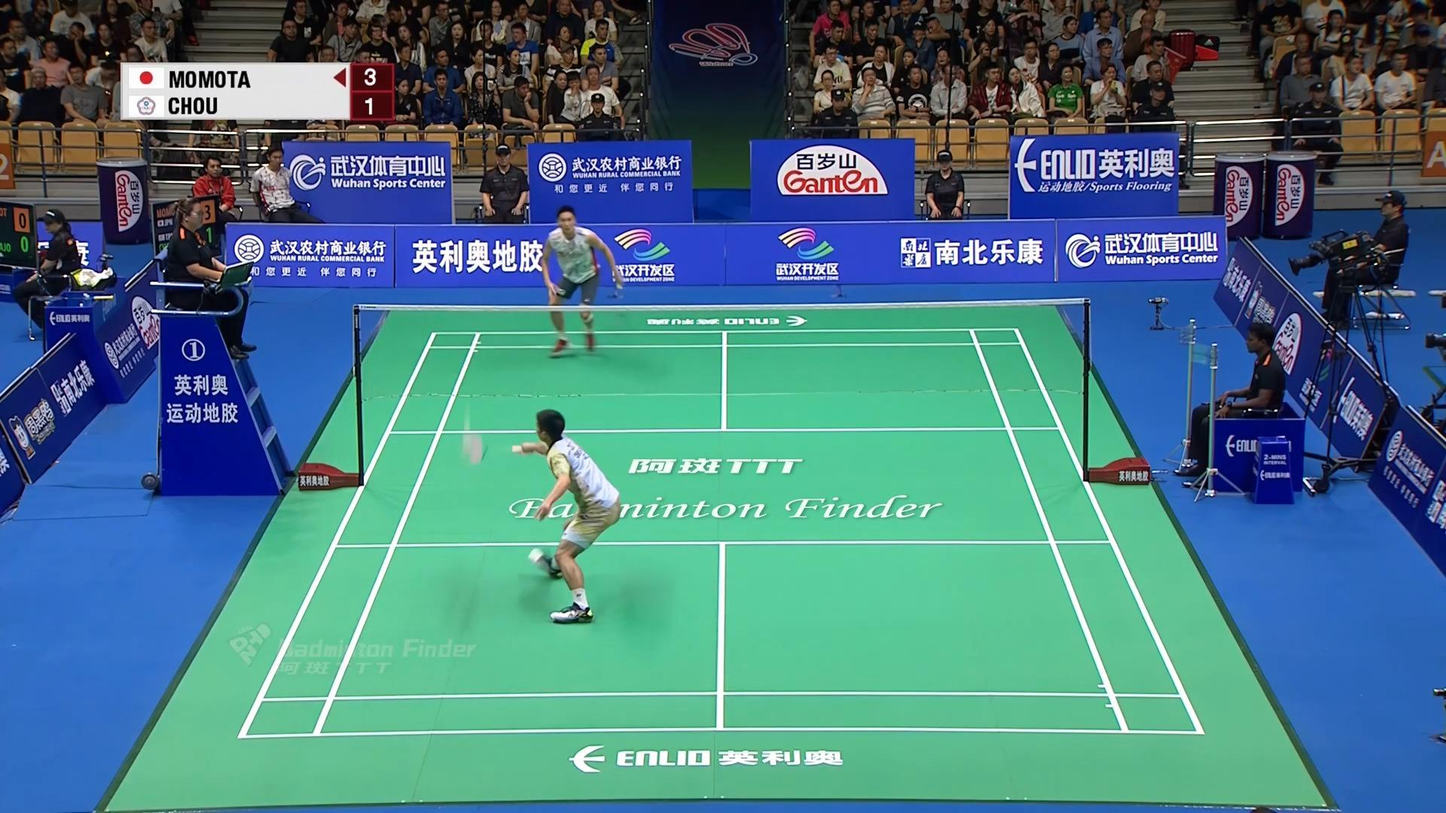player: (518, 409, 620, 623), (540, 205, 622, 358)
shuttlecock: (461, 407, 472, 456)
